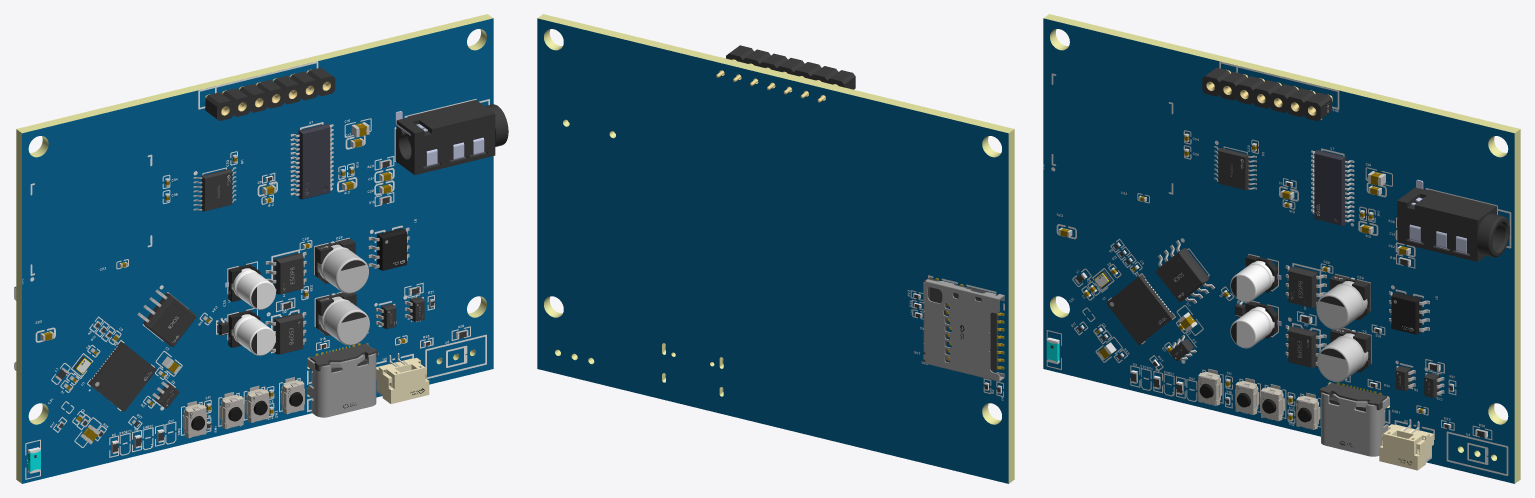
File: hifi-board.glb
3 renders of one model, left to right at view 1: azimuth 30°, elevation 25°; view 2: azimuth 150°, elevation 25°; view 3: azimuth 330°, elevation 25°, orthographic.
Visible parts, largest first — view 1: object 1, object 33, object 66, object 69, =>[0:1:1:572], =>[0:1:1:570], object 61, =>[0:1:1:567], =>[0:1:1:569], =>[0:1:1:545], =>[0:1:1:547], =>[0:1:1:540] (+4 smaller); view 2: object 1, object 69, object 33; view 3: object 1, object 33, object 66, object 69, =>[0:1:1:572], =>[0:1:1:570], object 61, =>[0:1:1:569], =>[0:1:1:567], =>[0:1:1:545], =>[0:1:1:547], =>[0:1:1:540] (+4 smaller).
Boxes of the visible parts, box(x1,y1,x2,y2) form: object 1: box(16, 14, 493, 483); object 33: box(28, 67, 508, 471); object 66: box(168, 124, 429, 403); object 69: box(14, 185, 392, 417); =>[0:1:1:572]: box(314, 238, 368, 293); =>[0:1:1:570]: box(315, 292, 369, 345); object 61: box(137, 167, 409, 326); =>[0:1:1:567]: box(225, 264, 275, 309); =>[0:1:1:569]: box(228, 310, 275, 355); =>[0:1:1:545]: box(265, 251, 306, 294); =>[0:1:1:547]: box(265, 312, 306, 354); =>[0:1:1:540]: box(219, 392, 244, 428); object 1: box(537, 14, 1014, 483); object 69: box(665, 277, 1004, 391); object 33: box(568, 45, 964, 339); object 1: box(1043, 14, 1520, 483); object 33: box(1046, 67, 1509, 464); object 66: box(1173, 150, 1433, 470); object 69: box(1074, 164, 1400, 456); =>[0:1:1:572]: box(1316, 274, 1370, 329); =>[0:1:1:570]: box(1317, 328, 1371, 381); object 61: box(1158, 146, 1429, 388); =>[0:1:1:569]: box(1230, 301, 1281, 348); =>[0:1:1:567]: box(1230, 255, 1281, 302); =>[0:1:1:545]: box(1285, 265, 1326, 307); =>[0:1:1:547]: box(1285, 325, 1326, 367); =>[0:1:1:540]: box(1235, 378, 1259, 414).
Size of the model in its own units: 0.0709 by 0.0504 by 0.00851.
